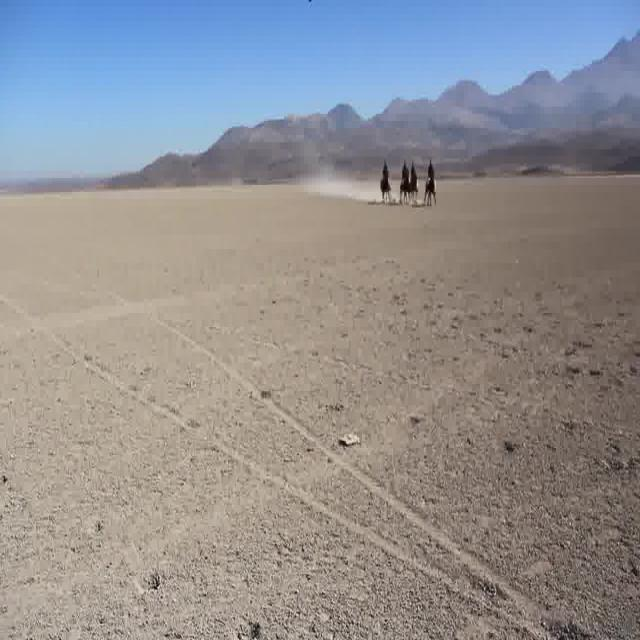drone: (303, 1, 317, 8)
